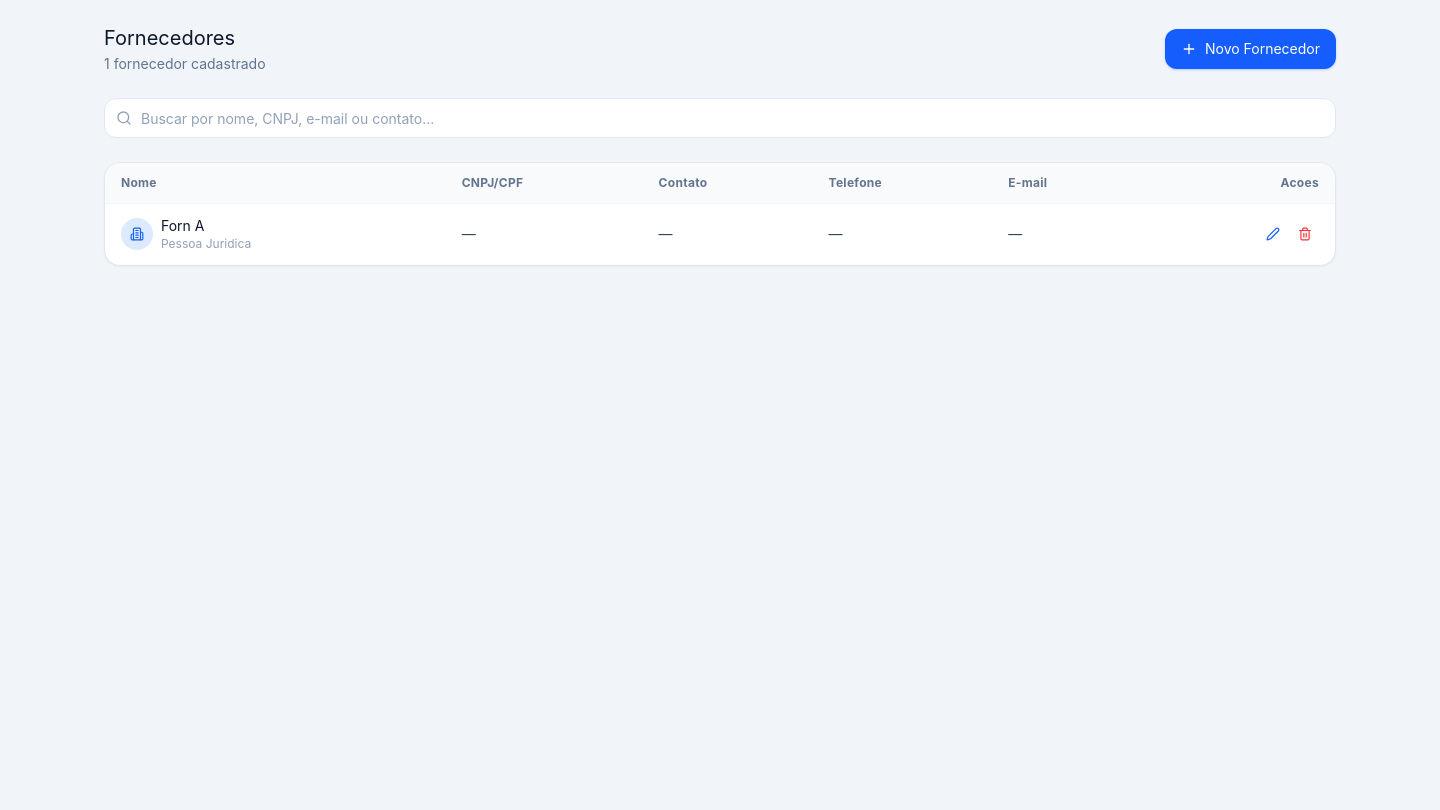
it: Fornecedores › opens edit fornecedor modal
Click the button named "Editar" at [1273, 234], box left=1259, top=220, right=1287, bottom=248
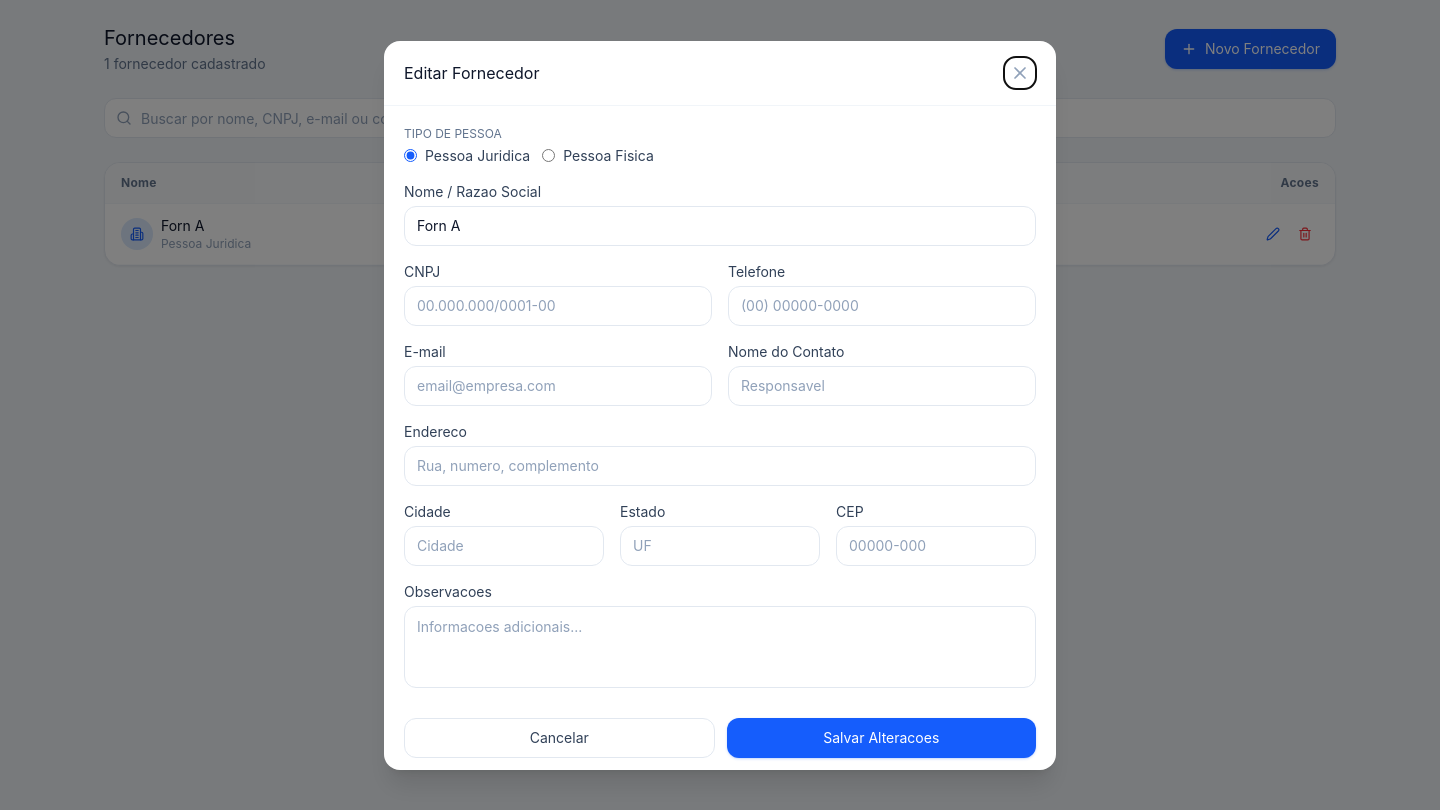
Expected: the button "Salvar Alteracoes" is shown, left=726, top=718, right=1036, bottom=758
